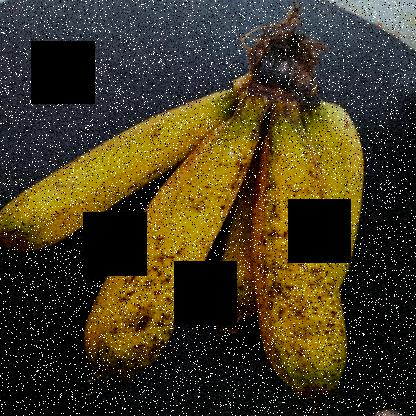ripe: (78, 116, 263, 388), (218, 119, 369, 415)
